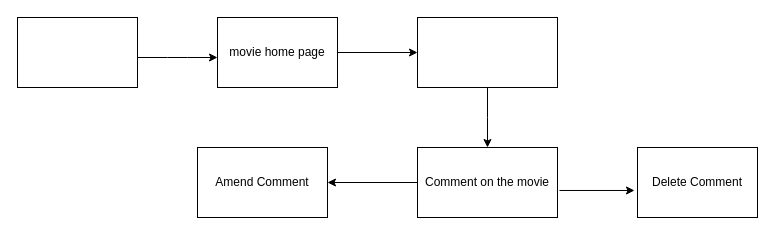
This 775x235 diagram has some shape labels left out. Here are the shapes that lost their labels. From the top down, the centre of each, then its label:
At [77,52]: "Sign up / Login".
At [487,52]: "Individual movie page".
